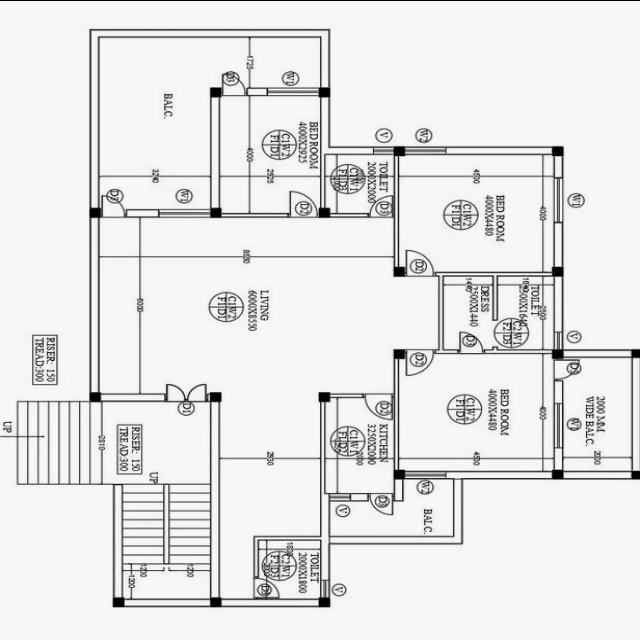Blueprint: (77, 18, 640, 618)
column: (207, 594, 226, 608), (392, 466, 408, 482), (548, 468, 566, 482), (549, 144, 567, 158), (391, 264, 406, 280), (208, 389, 224, 404), (207, 85, 224, 99), (391, 346, 406, 361), (316, 389, 332, 403), (550, 264, 566, 278), (316, 204, 332, 218), (86, 205, 102, 219), (87, 389, 103, 403), (111, 594, 127, 608), (318, 84, 332, 99), (208, 205, 224, 218), (550, 348, 566, 360), (316, 595, 332, 607), (394, 144, 406, 156), (629, 467, 640, 480), (631, 346, 640, 358)
wall: (88, 26, 334, 38), (208, 398, 222, 599), (88, 26, 102, 209), (319, 399, 332, 582), (88, 213, 101, 394), (110, 480, 126, 598), (207, 92, 223, 208), (318, 95, 333, 209), (326, 534, 466, 544), (442, 144, 554, 156), (629, 354, 640, 471), (442, 468, 554, 479), (219, 596, 321, 608), (450, 469, 466, 545), (122, 595, 214, 608), (392, 152, 402, 268), (392, 356, 401, 472), (318, 26, 334, 88), (434, 270, 556, 278), (560, 468, 635, 480), (97, 390, 170, 402), (562, 347, 634, 359), (552, 274, 566, 334), (318, 144, 376, 156), (552, 219, 566, 268), (438, 270, 446, 354), (251, 533, 325, 541), (217, 210, 291, 218), (482, 346, 554, 354), (490, 270, 500, 322), (122, 207, 162, 219), (552, 444, 566, 472), (551, 378, 566, 404), (252, 532, 260, 578), (552, 152, 566, 178), (327, 210, 371, 218), (392, 477, 406, 502), (243, 85, 270, 97), (326, 391, 366, 399), (348, 490, 372, 502), (434, 348, 461, 353)
